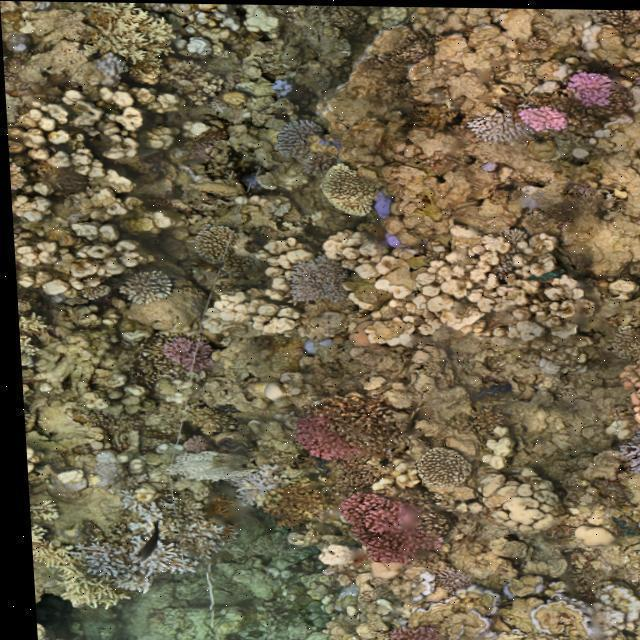Bleached Coral: (67, 538, 201, 590), (102, 480, 161, 535), (460, 107, 540, 142), (217, 458, 265, 508), (609, 425, 640, 470)
Healthy Coral: (345, 505, 470, 588), (549, 39, 639, 129), (279, 405, 357, 467)
